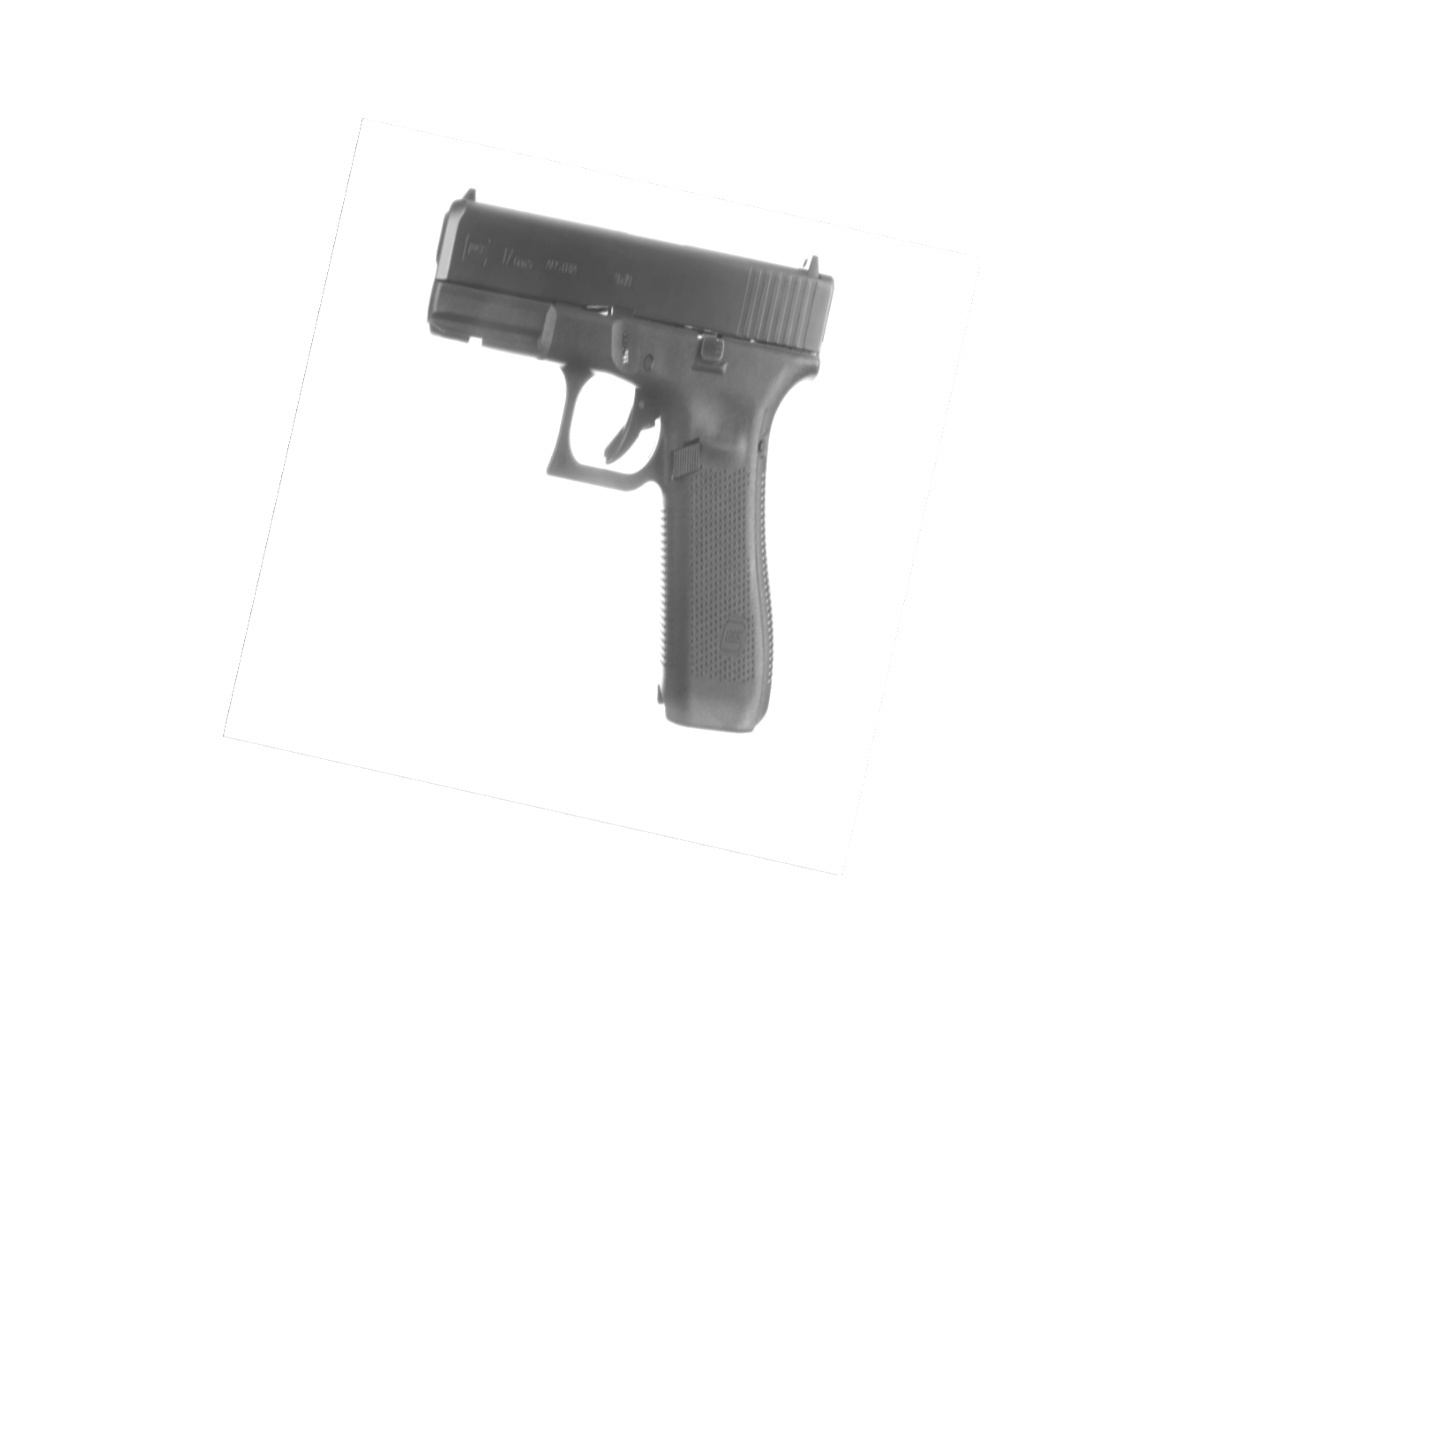gun: (423, 182, 840, 736)
